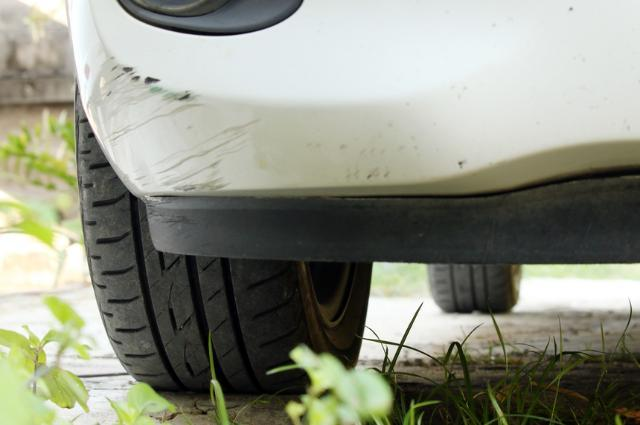Bumper: (72, 36, 281, 207)
